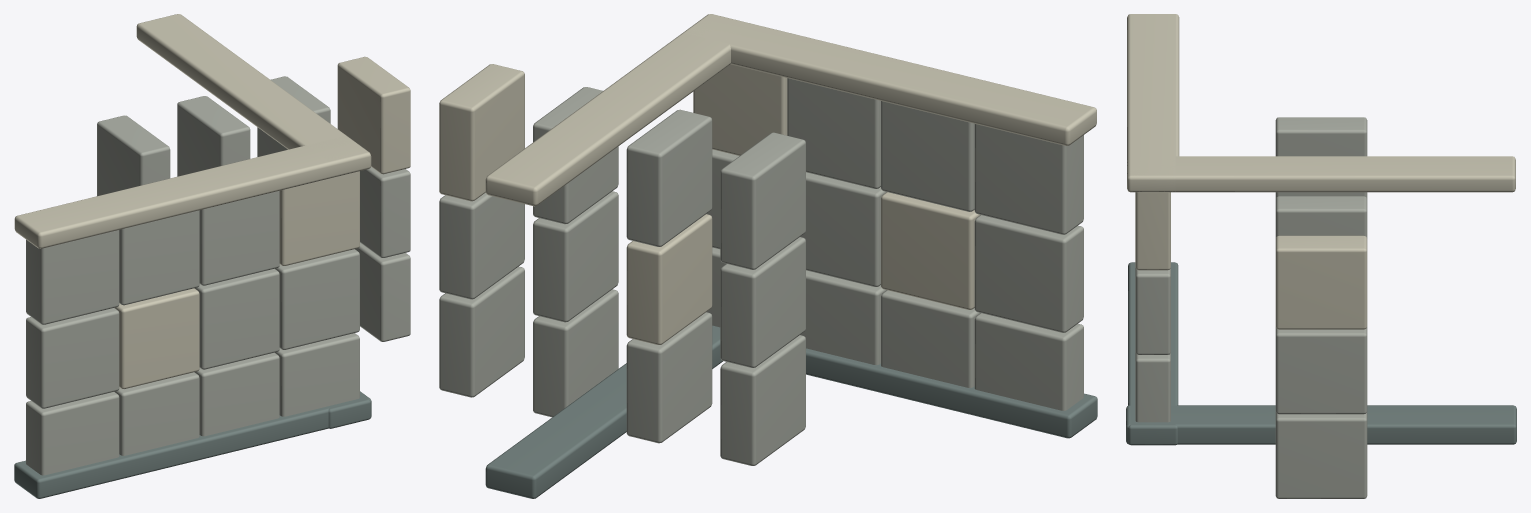
Rendered from SM_Wall_Corner_Stone_4m.fbx.
3 views of the same model, side by side, from view 1: azimuth 30°, elevation 25°; view 2: azimuth 150°, elevation 25°; view 3: azimuth 270°, elevation 25° (orthographic). The views are drawn at different scales.
Parts seen in each view (by area): view 1: SM_Wall_Corner_Stone_4m; view 2: SM_Wall_Corner_Stone_4m; view 3: SM_Wall_Corner_Stone_4m.
Boxes of the visible parts, <box> form: SM_Wall_Corner_Stone_4m: <box>14,14,410,498</box>; SM_Wall_Corner_Stone_4m: <box>439,14,1097,498</box>; SM_Wall_Corner_Stone_4m: <box>1126,14,1516,498</box>.
Bounding box in the file's own units: 5.58 × 3.18 × 4.18.
